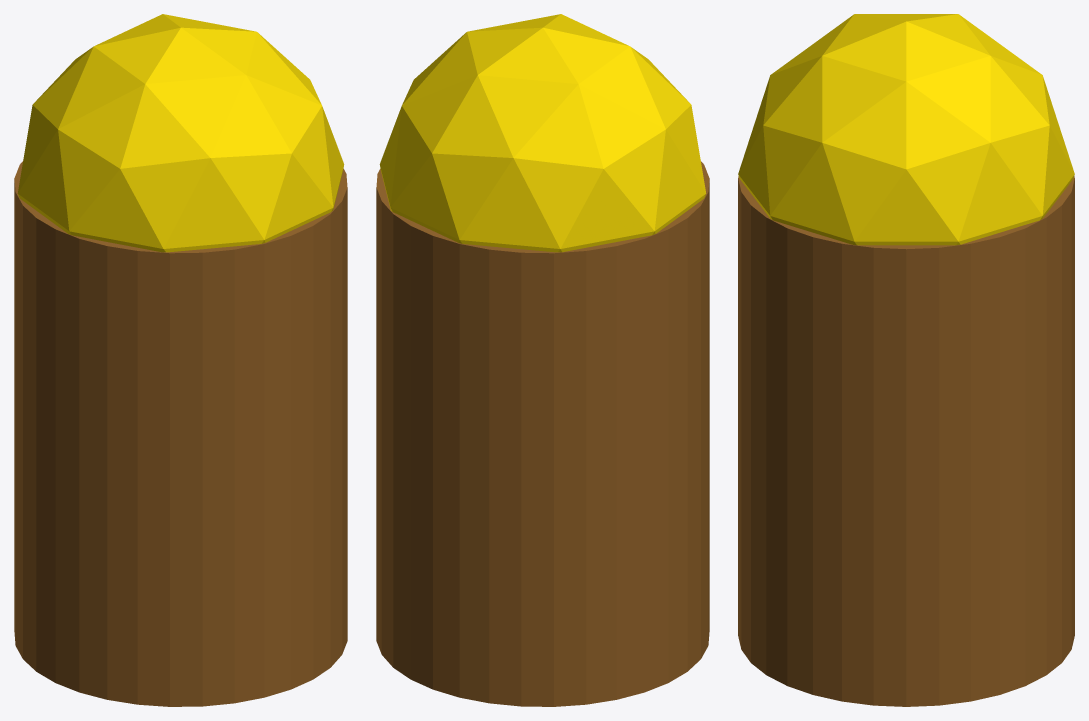
The model's file is Bullet.fbx.
The picture shows the model from 3 angles, left to right: view 1: azimuth 30°, elevation 25°; view 2: azimuth 150°, elevation 25°; view 3: azimuth 270°, elevation 25°; orthographic projection.
Parts seen in each view (by area): view 1: Cylinder, Icosphere; view 2: Cylinder, Icosphere; view 3: Cylinder, Icosphere.
Part boxes in pixels (<box>): Cylinder: <box>14,161,347,706</box>; Icosphere: <box>17,14,344,252</box>; Cylinder: <box>376,161,709,706</box>; Icosphere: <box>379,14,706,252</box>; Cylinder: <box>738,176,1074,706</box>; Icosphere: <box>738,14,1074,245</box>.
Size of the model in its own units: 100 by 201 by 100.
